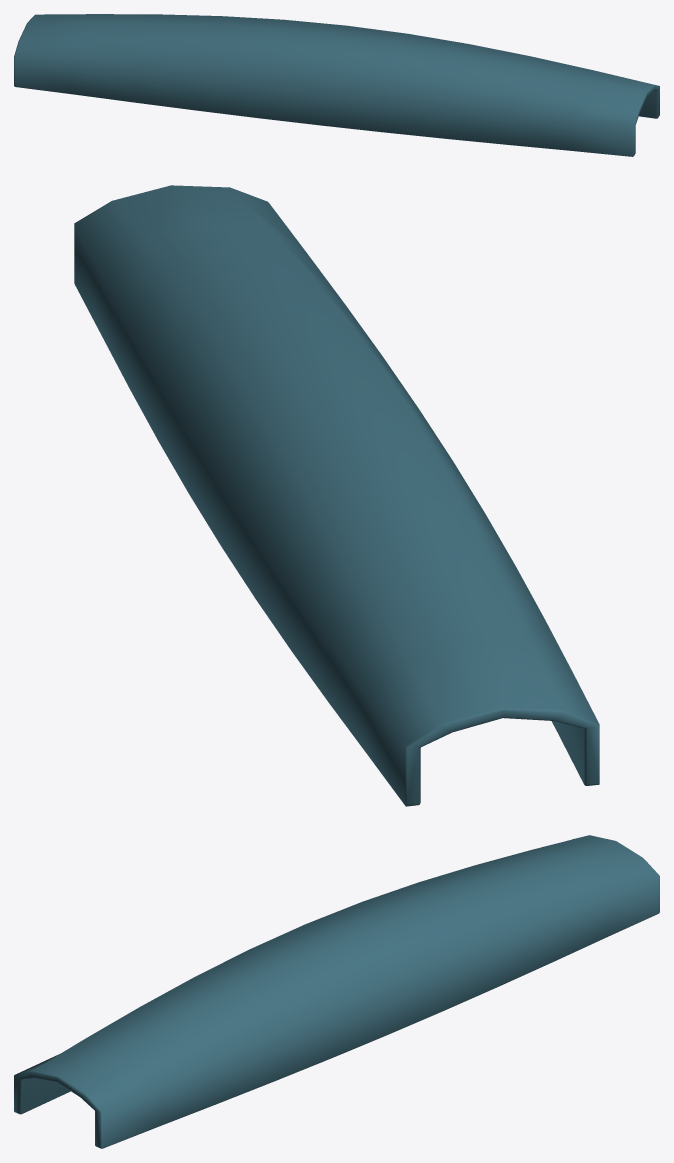
File: Arm_Cover_2.fbx
The picture shows the model from 3 angles, top to bottom: view 1: azimuth 30°, elevation 25°; view 2: azimuth 150°, elevation 25°; view 3: azimuth 270°, elevation 25°; orthographic projection. The views are drawn at different scales.
Visible parts, largest first — view 1: COVER_14in_FL_Aero; view 2: COVER_14in_FL_Aero; view 3: COVER_14in_FL_Aero.
Part boxes in pixels (x1,y1,x2,y2): COVER_14in_FL_Aero: [14, 14, 659, 156]; COVER_14in_FL_Aero: [74, 185, 599, 806]; COVER_14in_FL_Aero: [14, 835, 659, 1148].
Bounding box in the file's own units: 7.94 × 1.1 × 7.94.
